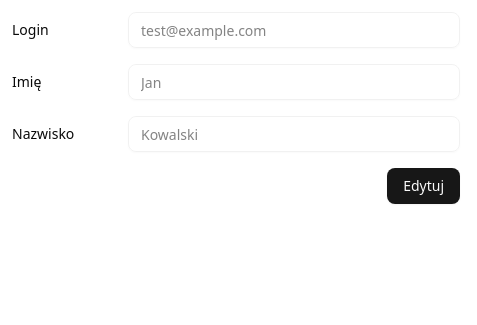
Test: Komponent UserProfile › resetuje formularz i wychodzi z trybu edycji po kliknięciu Anuluj
Click the button "Edytuj": (424, 186) x1=387 y1=168 x2=460 y2=204
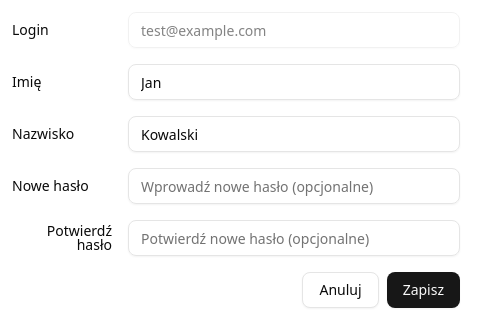
Replace the text in the field labelled "Imię" with "Anna": (294, 82) x1=128 y1=64 x2=460 y2=100
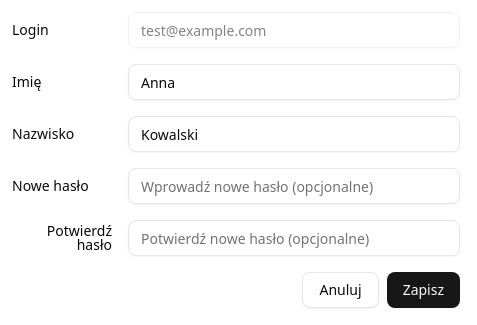
Click the button "Anuluj": (341, 290) x1=302 y1=272 x2=379 y2=308
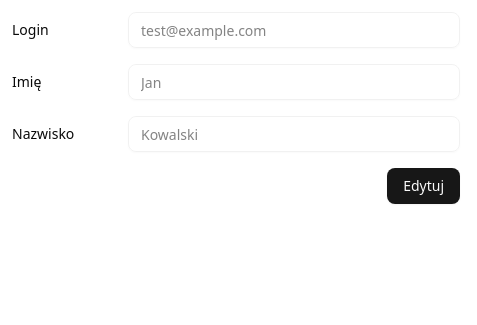
Expected: the field labelled "Imię" holds "Jan", x1=128 y1=64 x2=460 y2=100
Expected: the button "Edytuj" is shown, x1=387 y1=168 x2=460 y2=204
Expected: the label labelled "Nowe hasło" is gone
